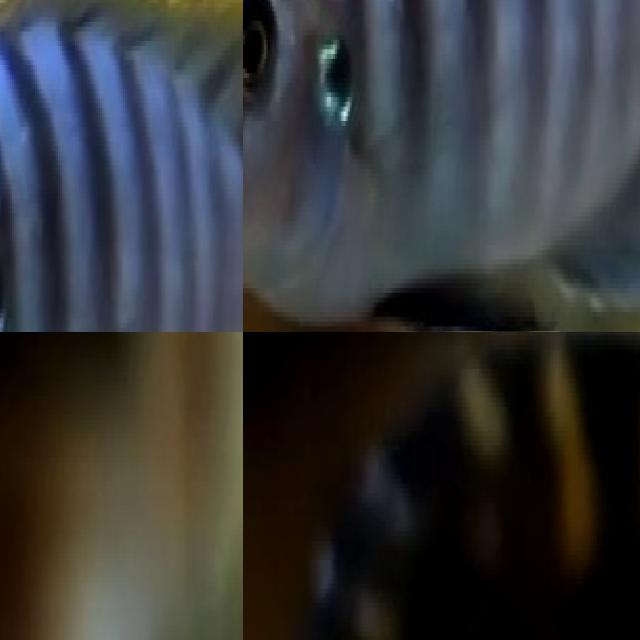fish: (243, 0, 640, 332), (0, 0, 243, 332)
